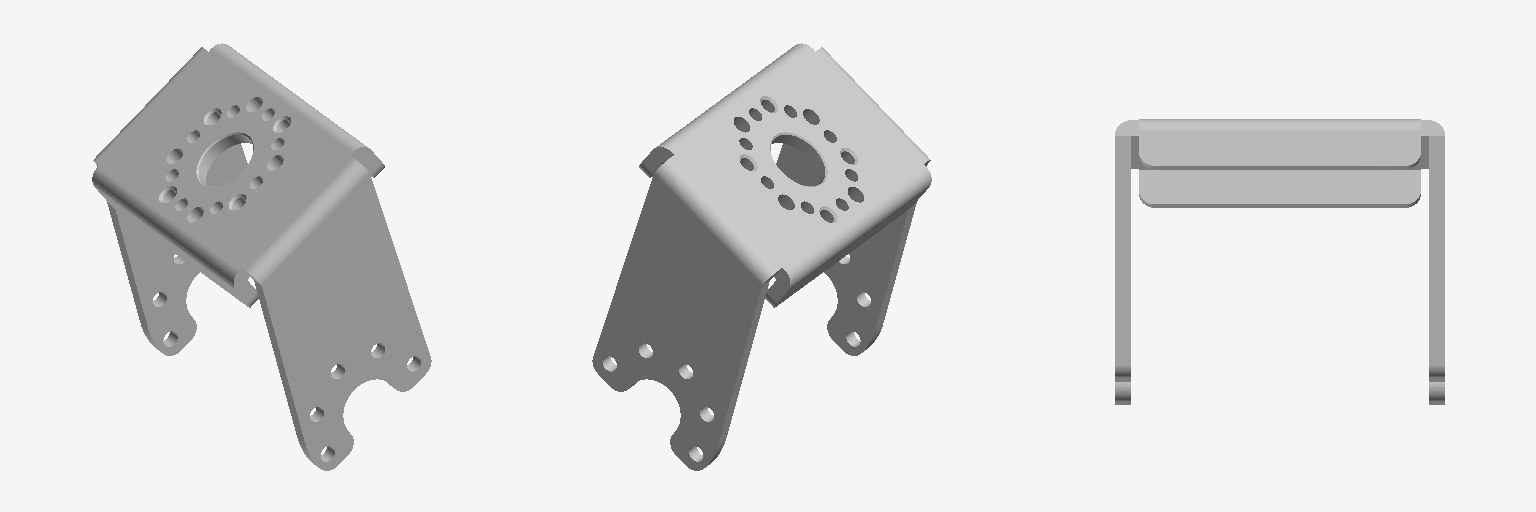
3 views of the same model, side by side, from view 1: azimuth 30°, elevation 25°; view 2: azimuth 150°, elevation 25°; view 3: azimuth 270°, elevation 25° (orthographic).
Parts seen in each view (by area): view 1: la1; view 2: la1; view 3: la1.
Boxes of the visible parts, box(x1,y1,x2,y2) form: la1: box(92, 43, 431, 470); la1: box(592, 43, 931, 470); la1: box(1115, 119, 1444, 404).
Bounding box in the file's own units: 0.0274 × 0.0427 × 0.042.